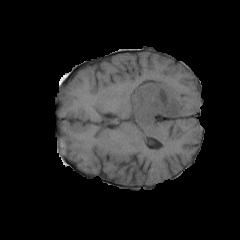glioma: (119, 79, 180, 146)
